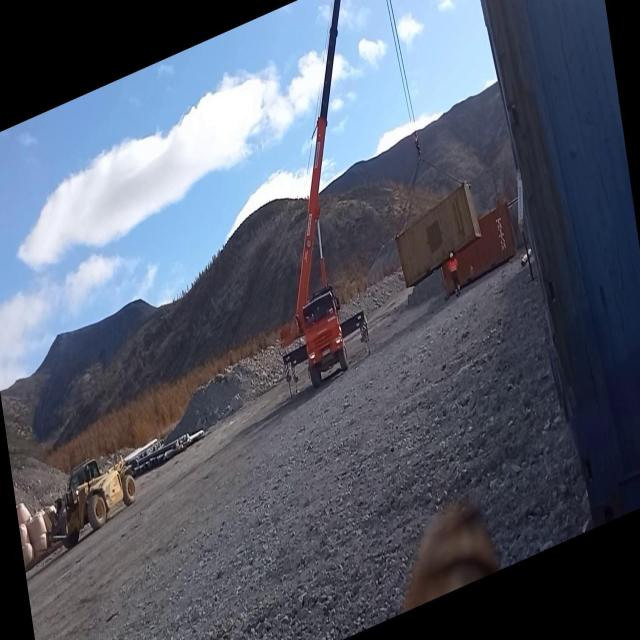crane: (235, 0, 397, 405)
